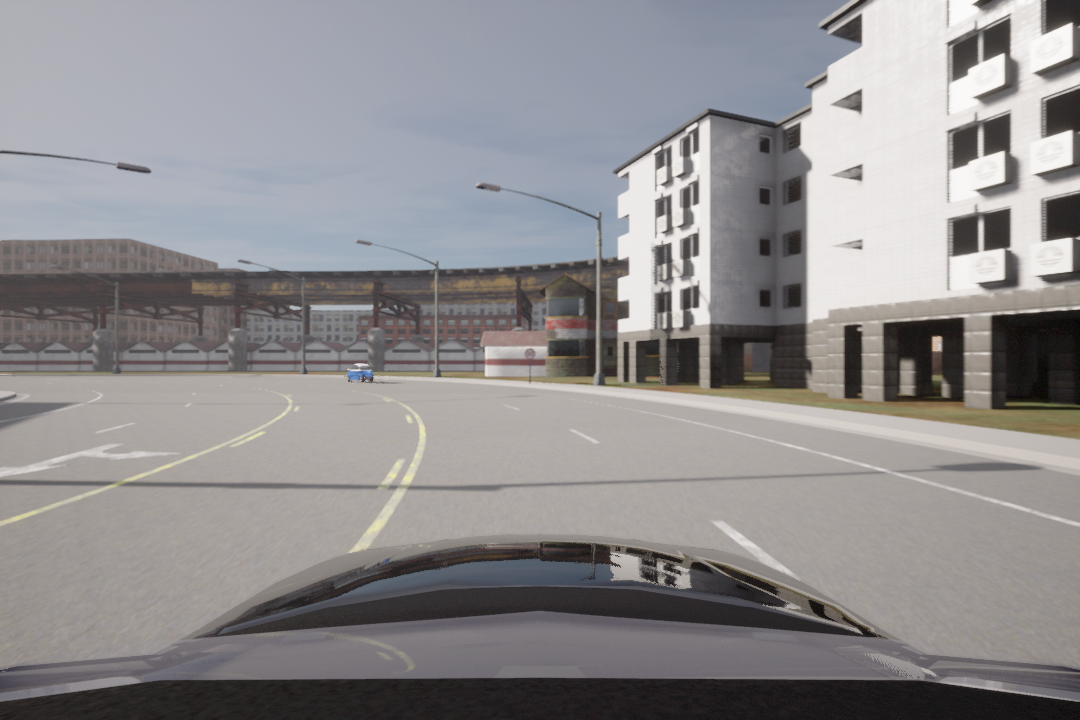RoadSign_forward_right: (4, 434, 181, 481)
